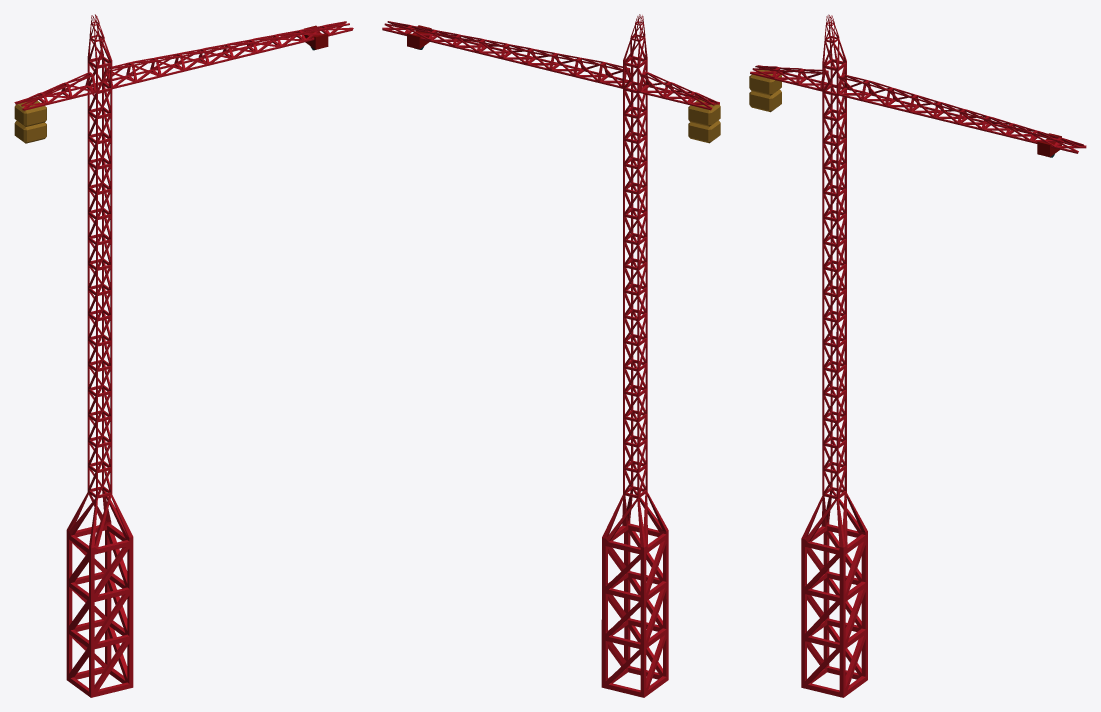
The model's file is building_crane.glb.
3 views of the same model, side by side, from view 1: azimuth 30°, elevation 25°; view 2: azimuth 150°, elevation 25°; view 3: azimuth 330°, elevation 25° (orthographic).
Visible parts, largest first — view 1: grua; view 2: grua; view 3: grua.
Boxes of the visible parts, x1,y1,x2,y2 form: grua: (14, 14, 353, 697); grua: (382, 14, 720, 697); grua: (749, 14, 1086, 697).
Size of the model in its own units: 0.0114 by 0.022 by 0.00145.
1 material, 1 textured.
